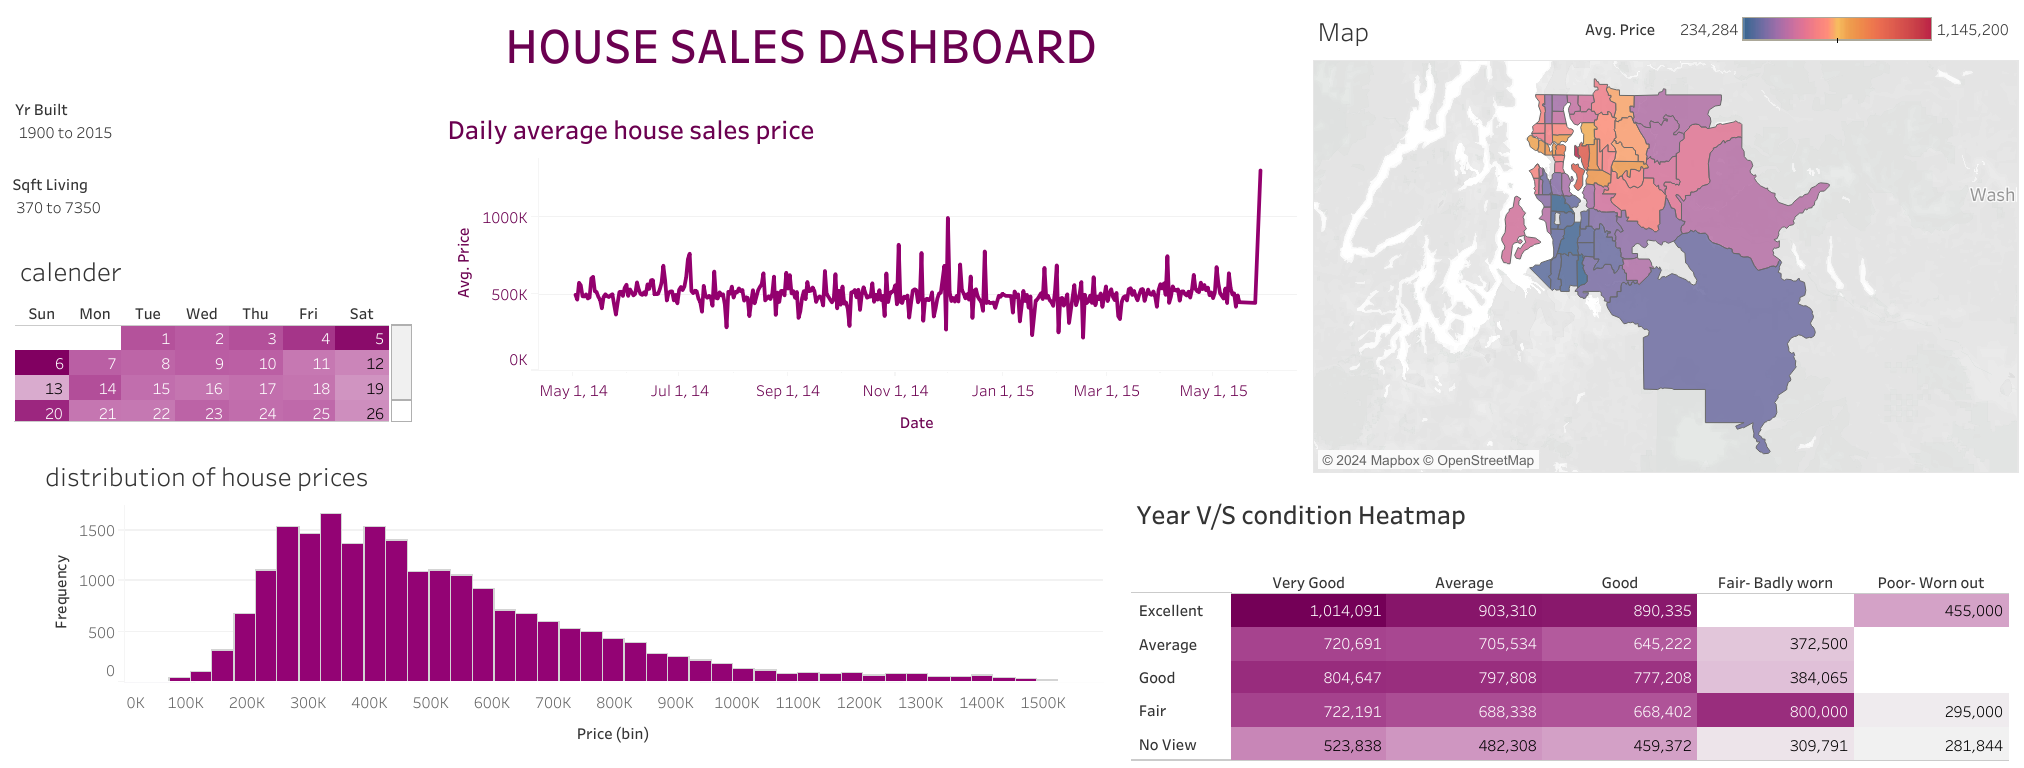

Layout of this report page (visuals, bound fields, positions):
{"tool":"tableau","page":{"name":"Dashboard 1","canvas":[1000,1000],"units":"permille","ordinal":0},"visuals":[{"type":"text","box":[6.6,7,777.8,101.1]},{"type":"worksheet","title":"map","mark":"Automatic","box":[648.1,8.2,348.9,608.7]},{"type":"legend","title":"map","param":"[federated.07z39kz0l1h5jw1a2idth0h2eozz].[avg:price:qk]","box":[782.6,16.4,212.7,55.2]},{"type":"filter","title":"calender","param":"[federated.07z39kz0l1h5jw1a2idth0h2eozz].[none:yr_built:qk]","box":[7.2,124.6,190,69.3]},{"type":"worksheet","title":"line chart","mark":"Automatic","rows":["price"],"cols":["date"],"box":[218.6,135.1,421.7,438.3]},{"type":"filter","title":"calender","param":"[federated.07z39kz0l1h5jw1a2idth0h2eozz].[none:sqft_living:qk]","box":[6,223.3,191.2,71.7]},{"type":"worksheet","title":"calender","mark":"Square","rows":["date"],"cols":["date"],"box":[7.2,319.6,196.5,230.3]},{"type":"worksheet","title":"histogram","mark":"Automatic","rows":["price"],"cols":["Price (bin)"],"box":[19.7,587.5,524.5,391.3]},{"type":"worksheet","title":"Year V/S condition Heatmap","mark":"Square","rows":["view"],"cols":["condition"],"box":[558.5,635.7,434.3,354.9]}]}

Visuals, with their boxes on the dashboard's canvas, which has no fixed pixel size, in thousandths of its width and height (x1, y1, x2, y2). These are canvas units, not pixel positions in the 2024x768 screenshot, which may show the page scaled, cropped or inside an application window:
text: crop(7, 7, 784, 108)
"map" worksheet: crop(648, 8, 997, 617)
"map" legend: crop(783, 16, 995, 72)
"calender" filter: crop(7, 125, 197, 194)
"line chart" worksheet: crop(219, 135, 640, 573)
"calender" filter: crop(6, 223, 197, 295)
"calender" worksheet (Square marks): crop(7, 320, 204, 550)
"histogram" worksheet: crop(20, 588, 544, 979)
"Year V/S condition Heatmap" worksheet (Square marks): crop(558, 636, 993, 991)
